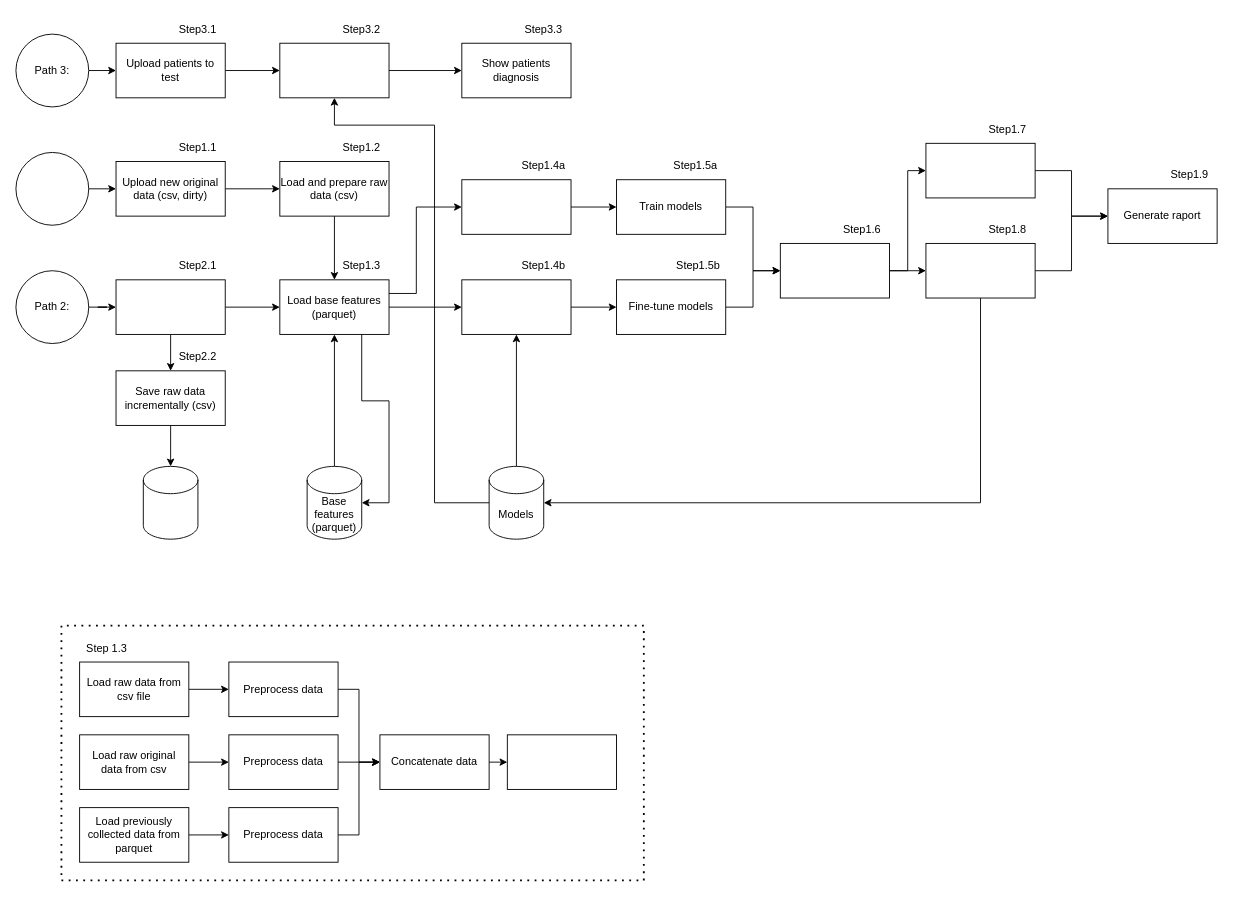
Some shapes in this 1233 by 897 pixel diagram are drawn without their labels. Each missing label, with the centre of its shape:
"Create models" belongs at [516,206].
"Load models" belongs at [334,70].
"Load models that can be tuned" belongs at [516,306].
"Load raw data (csv)" belongs at [170,306].
"Path 1:" belongs at [52,188].
"Perform SHAP analysis" belongs at [980,170].
"Raw features (csv)" belongs at [170,502].
"Save data as parquet" belongs at [561,761].
"Save models" belongs at [980,270].
"Validate models and decide if new should be saved" belongs at [834,270].
